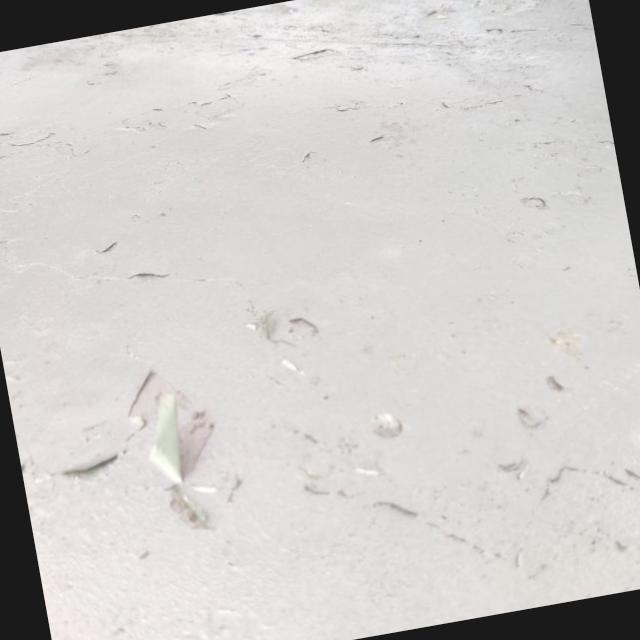paint-off: (109, 354, 247, 514)
